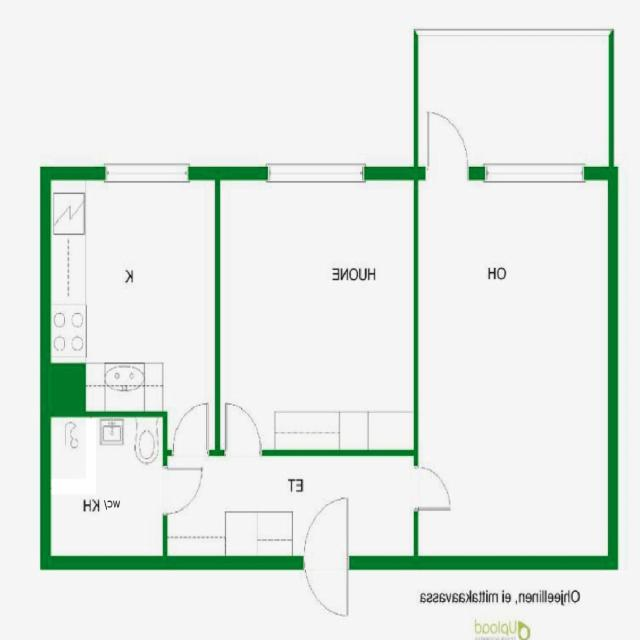door: (305, 500, 347, 569), (305, 556, 347, 625), (428, 115, 468, 179), (226, 402, 261, 454), (163, 469, 202, 514), (174, 404, 208, 454), (414, 468, 449, 508)
